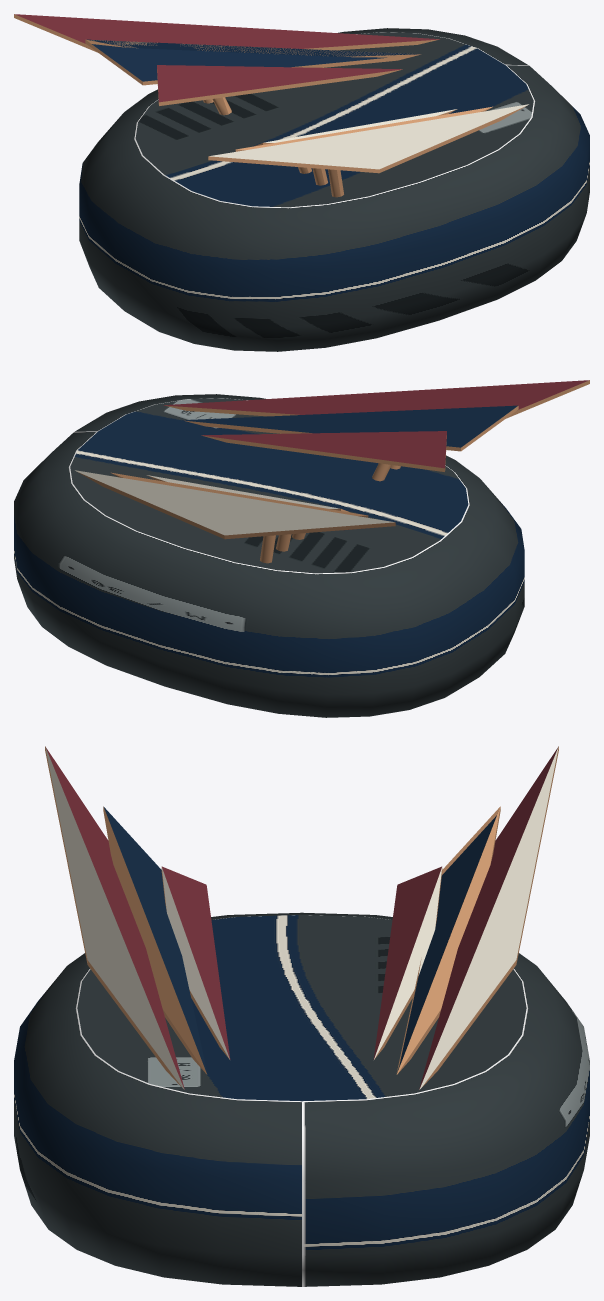
Rendered from MotorCowl_30_UR_濃藍・赤金翼.glb.
3 renders of one model, top to bottom at view 1: azimuth 30°, elevation 25°; view 2: azimuth 150°, elevation 25°; view 3: azimuth 270°, elevation 25°, orthographic. The views are drawn at different scales.
Visible parts, largest first — view 1: MotorCowl_30_UR; view 2: MotorCowl_30_UR; view 3: MotorCowl_30_UR.
Boxes of the visible parts, x1=… form: MotorCowl_30_UR: x1=14, y1=14, x2=589, y2=351; MotorCowl_30_UR: x1=14, y1=380, x2=589, y2=717; MotorCowl_30_UR: x1=14, y1=746, x2=589, y2=1286.
Bounding box in the file's own units: 0.3355 × 0.174 × 0.286.
2 materials, 2 textured.
